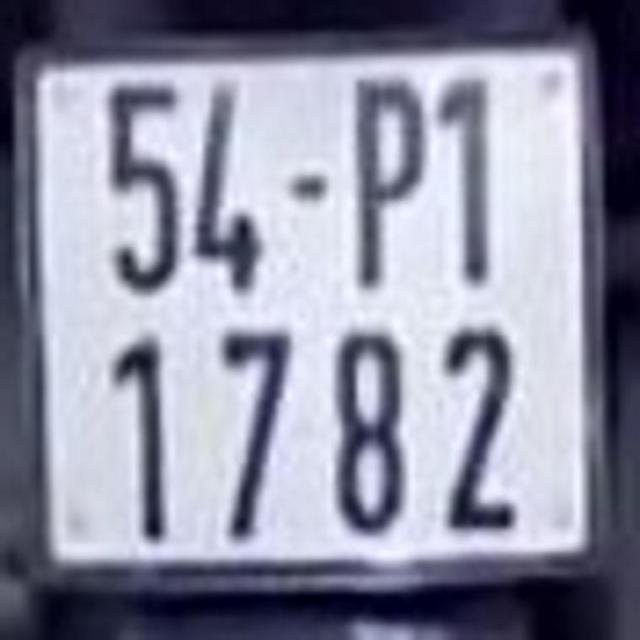1: (105, 322, 186, 549), (430, 43, 504, 288)
2: (439, 313, 524, 538)
4: (188, 56, 272, 306)
5: (91, 68, 184, 303)
7: (216, 314, 298, 552)
8: (330, 320, 413, 539)
P: (342, 48, 428, 311)
